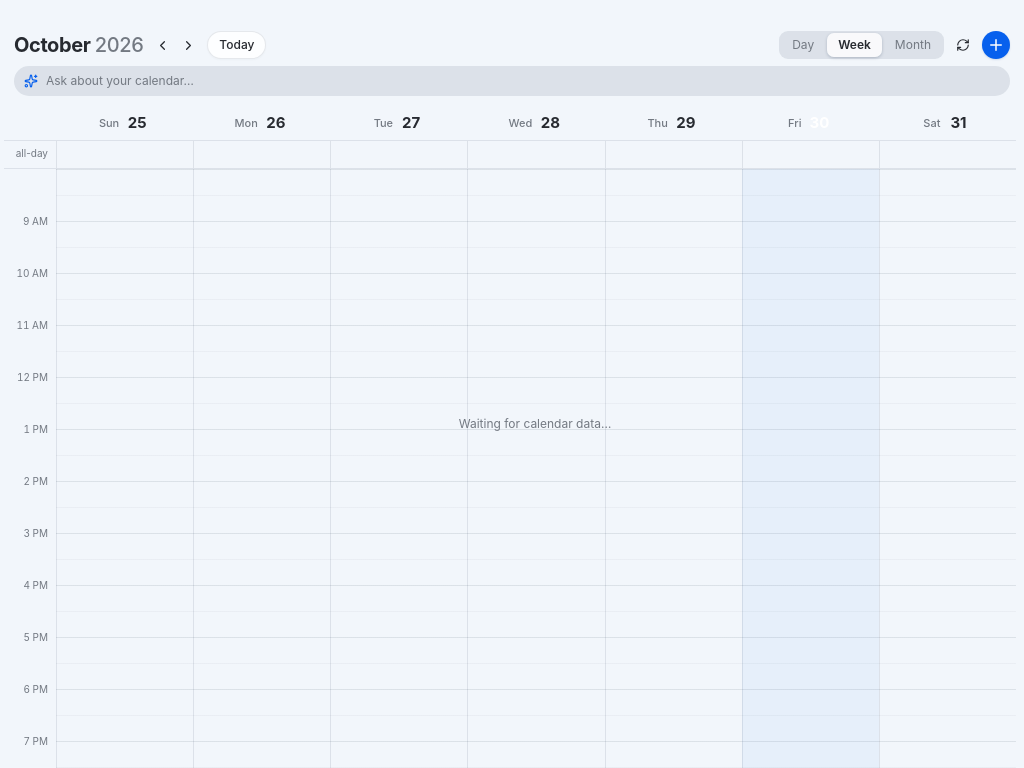
keeps calendar questions and their failure beside the input
Type "What do I have tomorrow?" into the field named "Ask Calshot about your calendar" at (523, 81), box [46,72,1000,90]
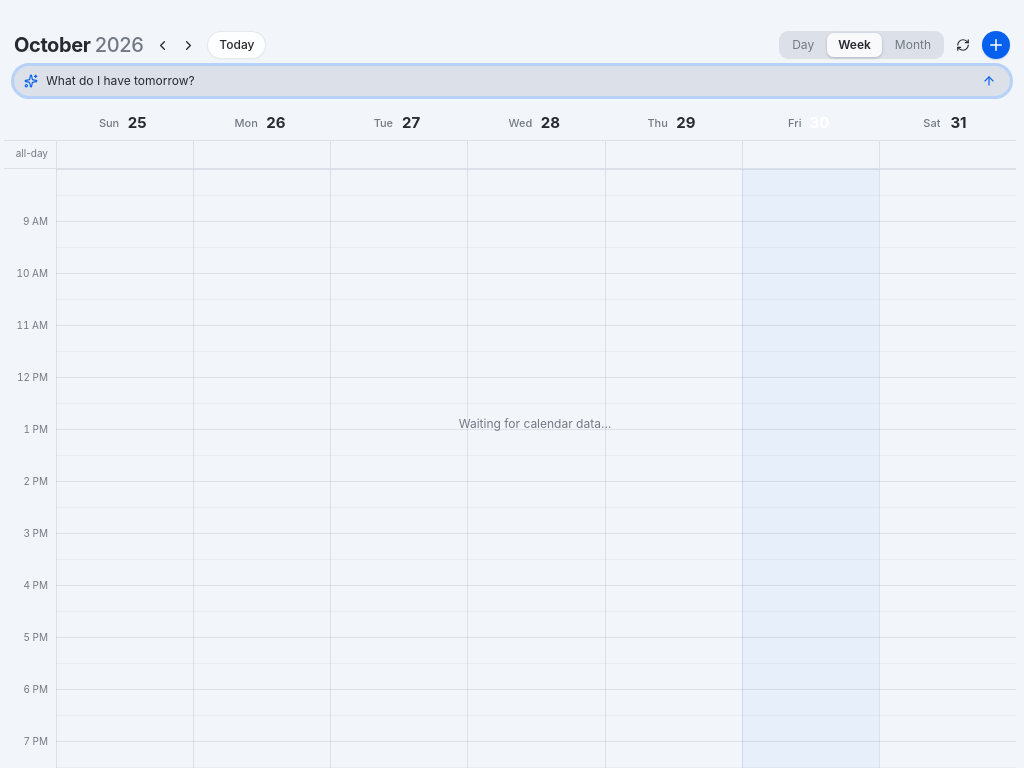
Click the button named "Send calendar question" at (989, 81), box [978,67,1000,95]
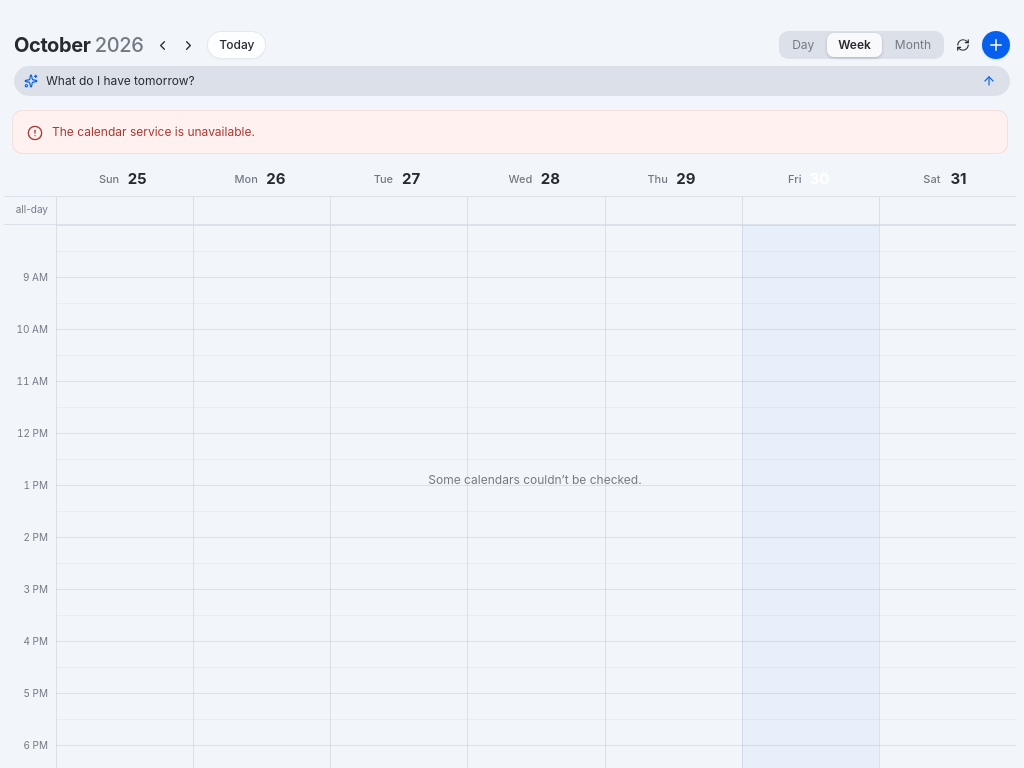
Check: the message "The calendar service is unavailable." is shown, box [12,110,1008,154]
